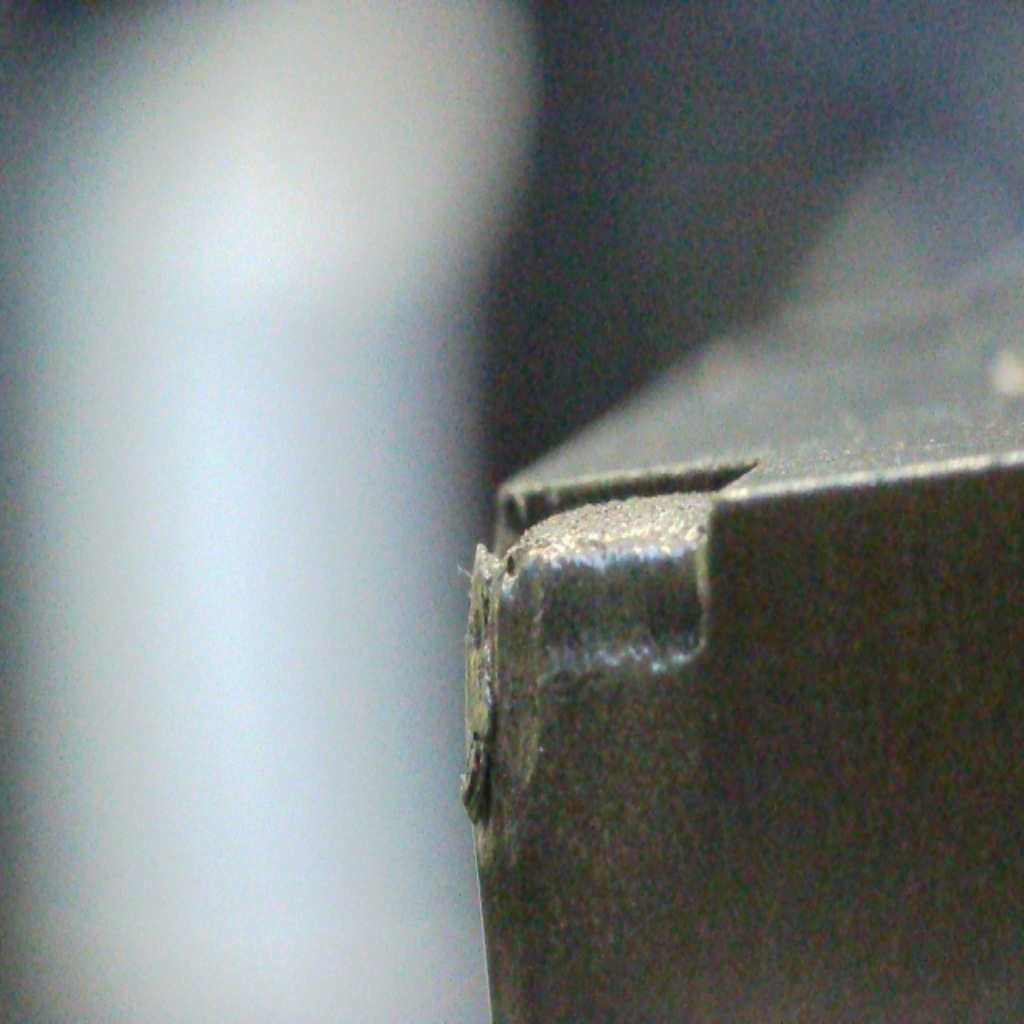flank_wear: (463, 584, 719, 677), (462, 548, 527, 853)
